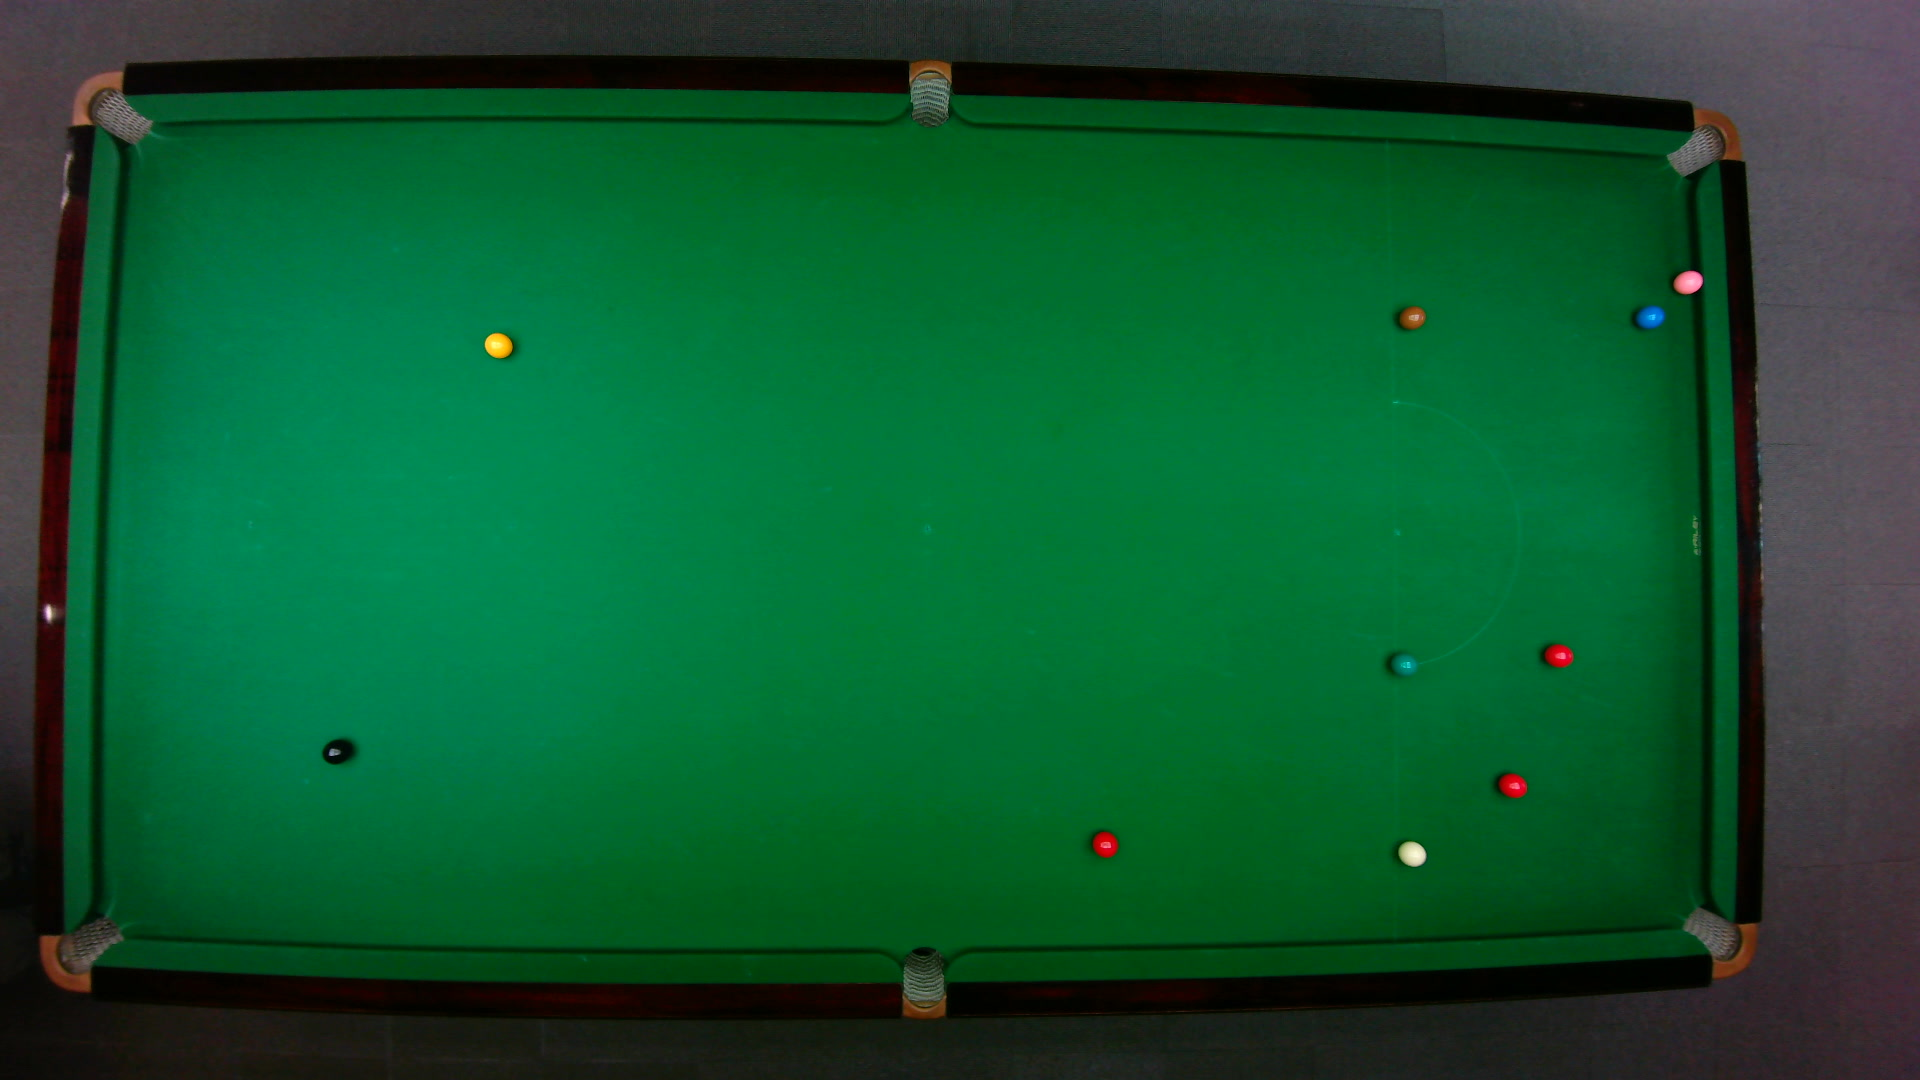bag: (37, 913, 125, 992), (69, 69, 153, 145), (1677, 905, 1756, 978), (1663, 107, 1741, 177), (901, 944, 944, 1021), (909, 57, 949, 128)
black: (320, 737, 352, 765)
blue: (1633, 303, 1665, 328)
brown: (1396, 305, 1427, 328)
green: (1389, 650, 1418, 676)
pink: (1669, 266, 1704, 295)
red: (1089, 828, 1120, 858), (1495, 771, 1528, 798), (1542, 642, 1575, 667)
white: (1395, 839, 1427, 866)
yellow: (483, 330, 513, 359)
zone: (1389, 400, 1520, 669)
